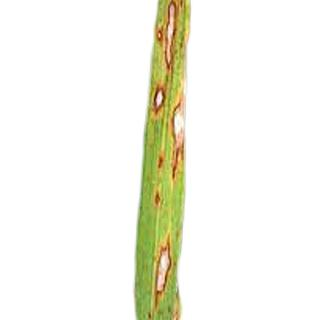Blast: (144, 229, 178, 311), (154, 0, 180, 74), (170, 94, 188, 187), (146, 85, 164, 123)
